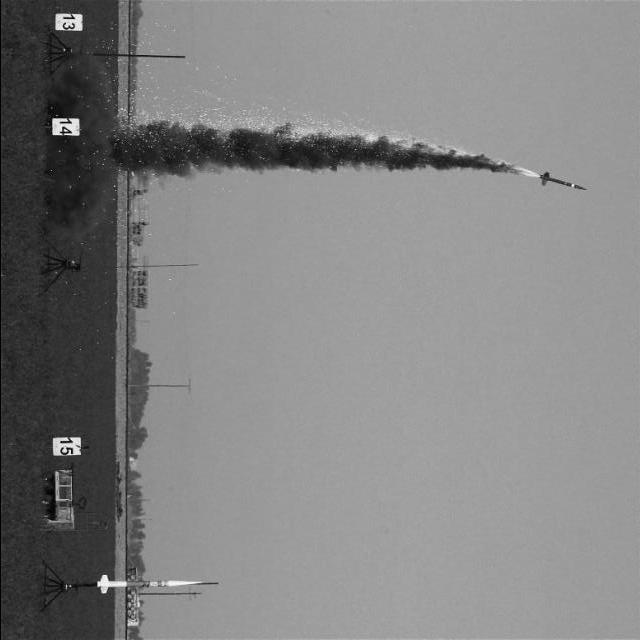missile: (90, 574, 202, 597), (536, 169, 588, 195)
